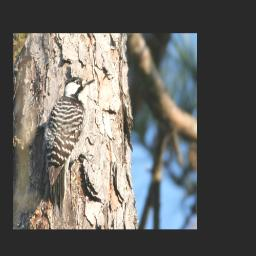Woodpecker: (43, 76, 96, 217)
